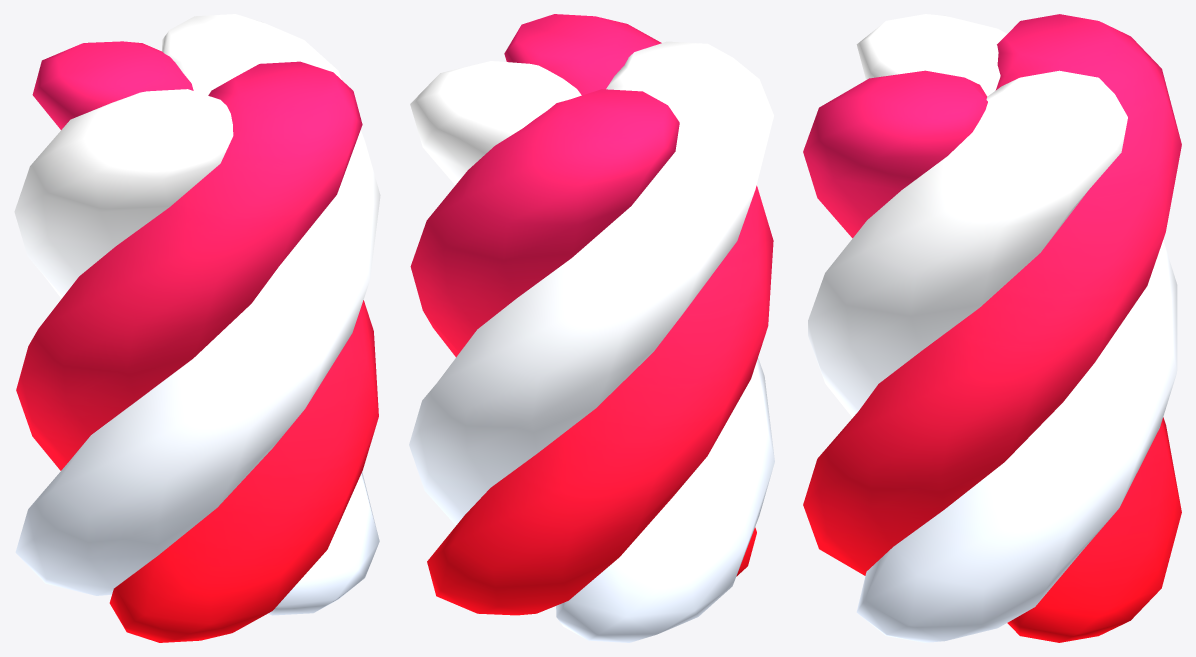
File: Marshmallow_01.glb
3 views of the same model, side by side, from view 1: azimuth 30°, elevation 25°; view 2: azimuth 150°, elevation 25°; view 3: azimuth 270°, elevation 25° (orthographic). The views are drawn at different scales.
Parts seen in each view (by area): view 1: Marshmallow_01; view 2: Marshmallow_01; view 3: Marshmallow_01.
Boxes of the visible parts, left/top/right/bottom form: Marshmallow_01: left=14, top=14, right=380, bottom=642; Marshmallow_01: left=409, top=14, right=774, bottom=642; Marshmallow_01: left=803, top=14, right=1181, bottom=642.
Size of the model in its own units: 0.6508 by 0.9948 by 0.6506.
1 material, 1 textured.
